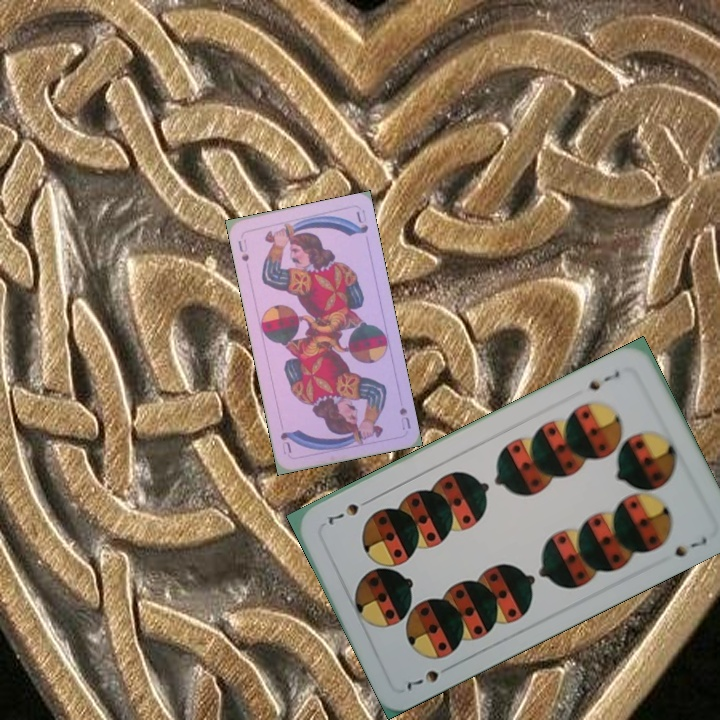S7: (402, 661, 456, 693), (581, 367, 623, 393)
SU: (395, 404, 413, 433), (234, 235, 251, 264)
